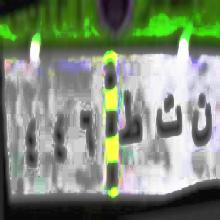4: (49, 106, 70, 174), (22, 109, 39, 175)
6: (75, 99, 99, 167)
Taa: (117, 88, 144, 158)
noon: (188, 88, 213, 154)
taa: (156, 86, 184, 145)
